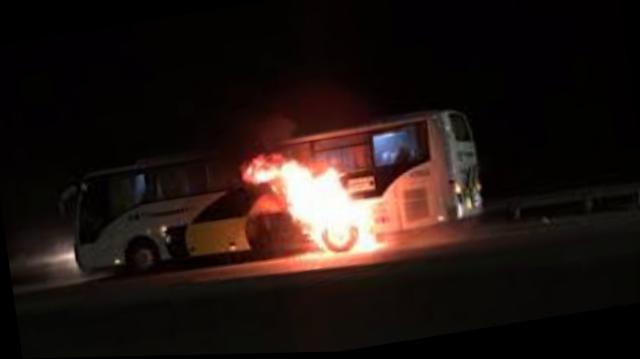fire: (236, 129, 397, 275)
